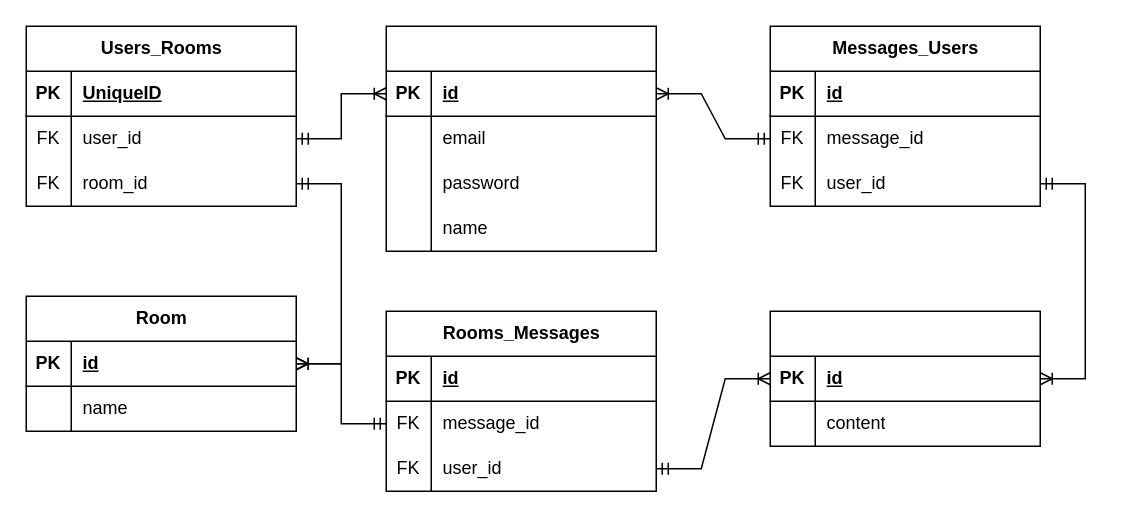
This 1125x518 diagram has some shape labels left out. Here are the shapes that lost their labels. From the top down, the box of each, then its label:
(385, 25, 656, 251): User
(769, 310, 1040, 446): Message
